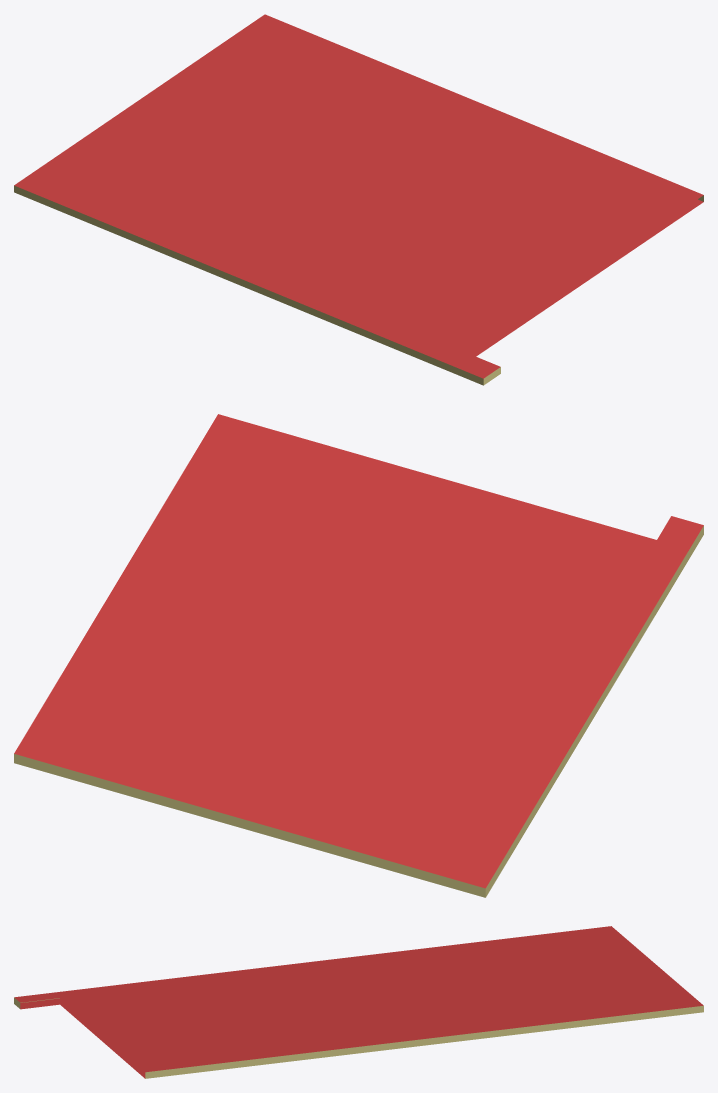
3 renders of one model, top to bottom at view 1: azimuth 30°, elevation 25°; view 2: azimuth 150°, elevation 25°; view 3: azimuth 270°, elevation 25°, orthographic. The views are drawn at different scales.
Size of the model in its own units: 6.68 by 9.5 by 0.995.
